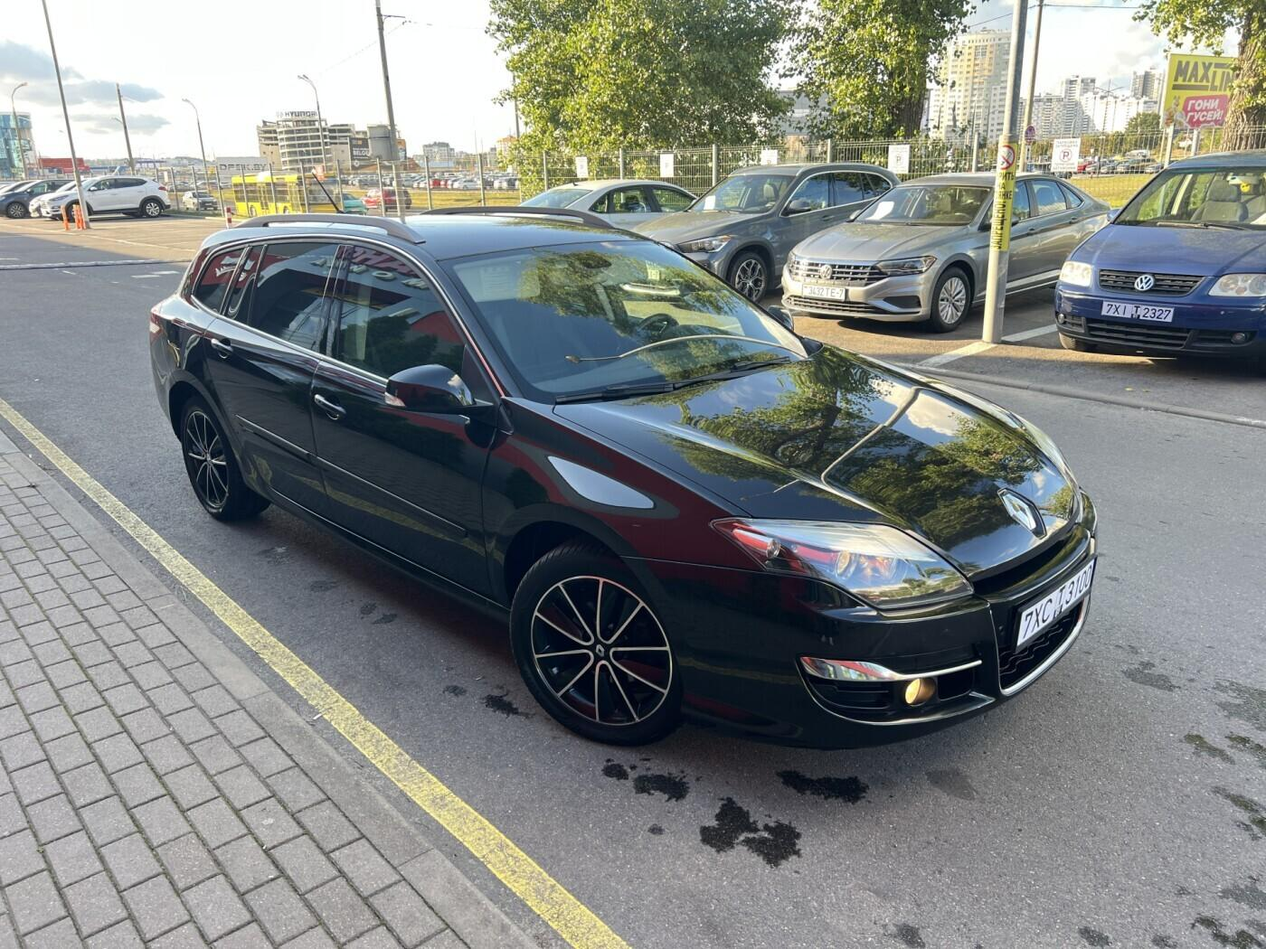Laguna_2010-2015: (142, 200, 1110, 770)
